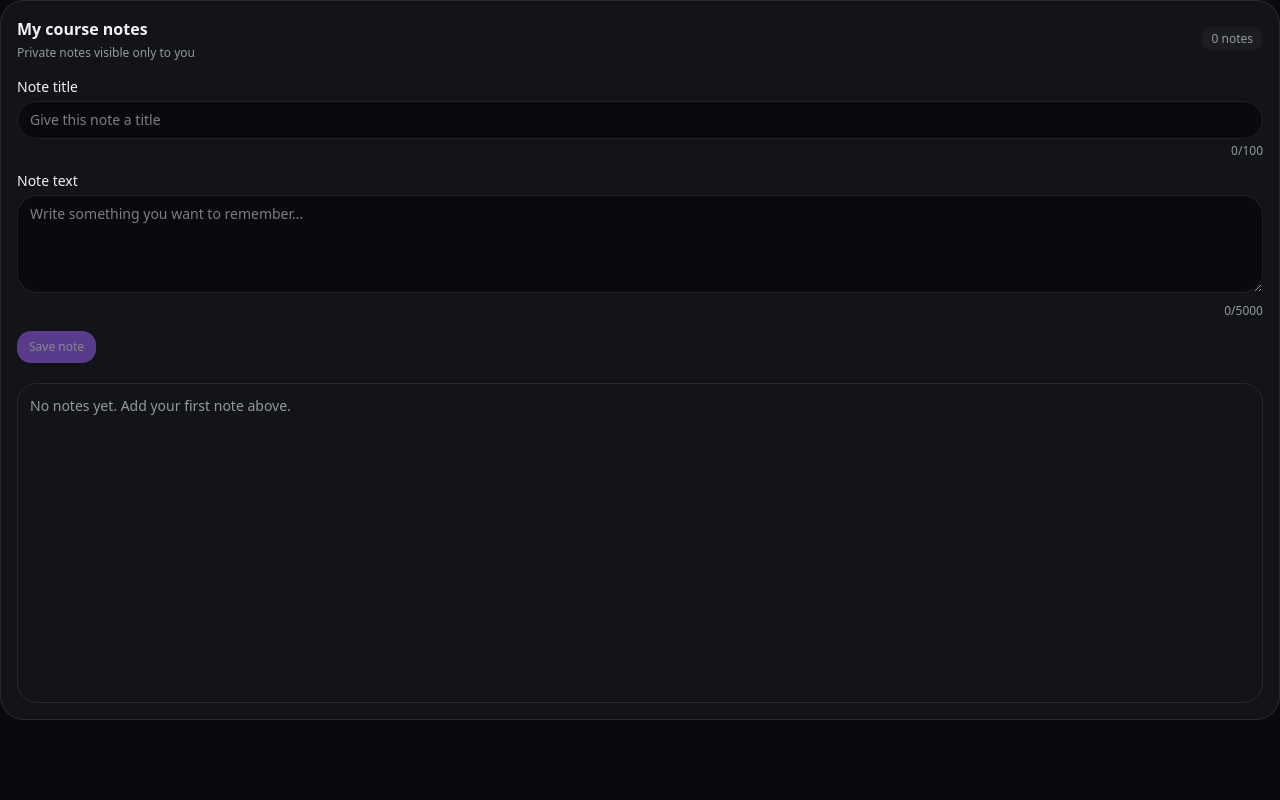
Scenario: LearningNotesPanel › keeps the note draft when saving fails
This screenshot has width=1280, height=800.
Expected: the text "No notes yet. Add your first note above." is shown, [30,396,291,415]
Step 1. Type "Keep this draft" into the field labelled "Note title" → (640, 120), box [17,101,1263,139]
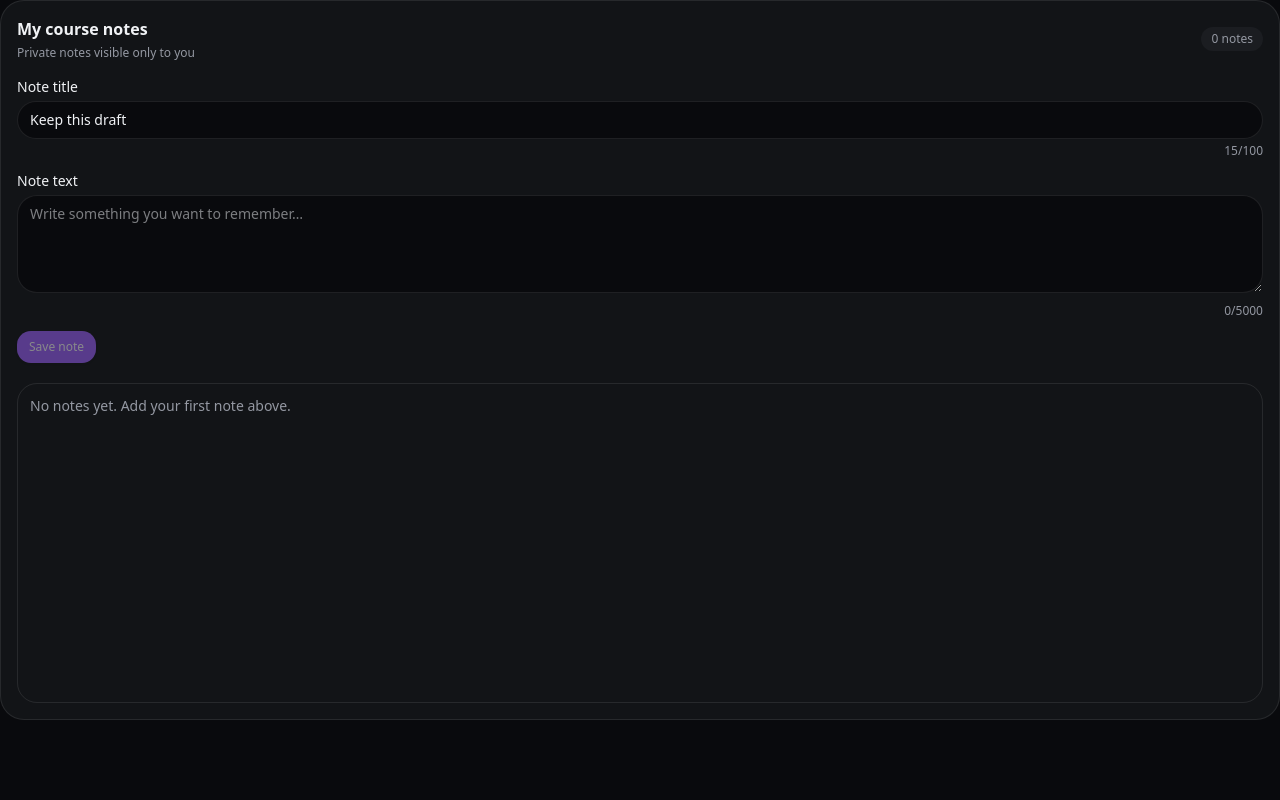
Step 2. Type "Do not lose this note." into the text box labelled "Note text" → (640, 244), box [17,195,1263,293]
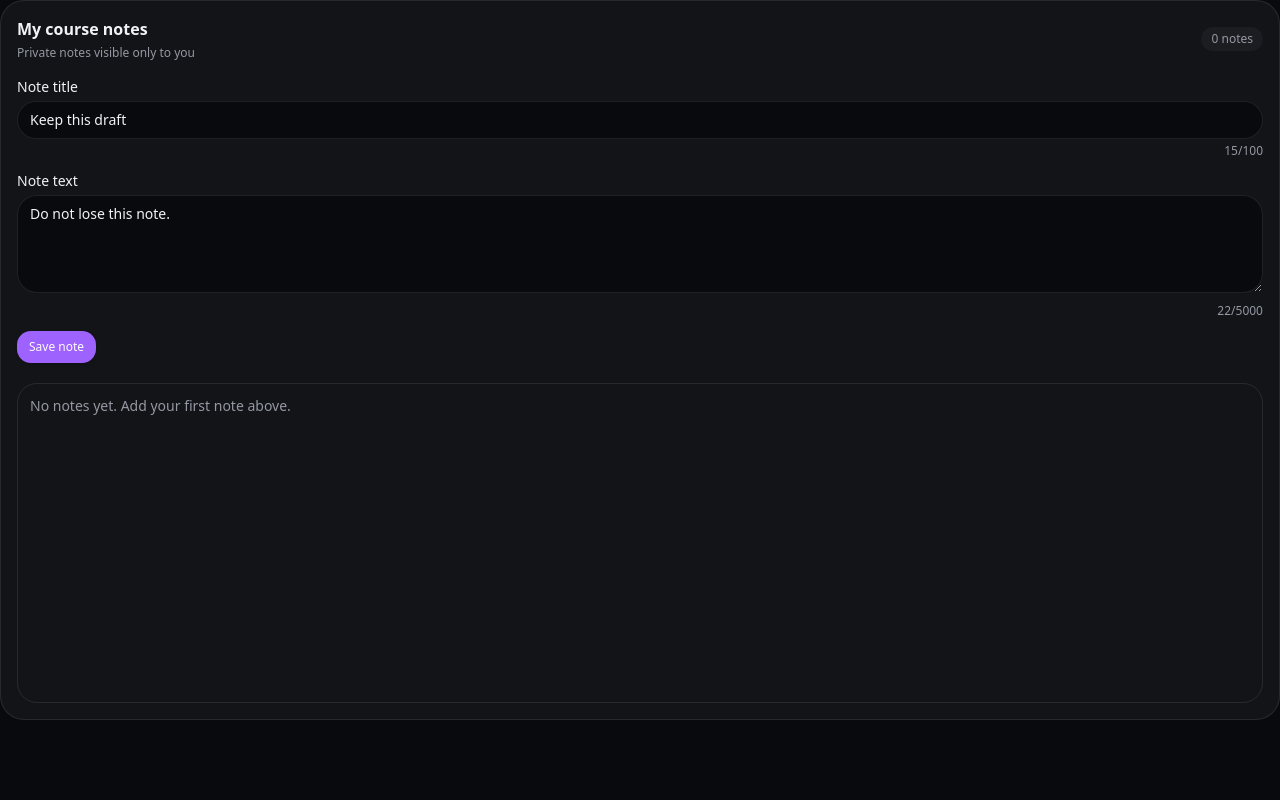
Step 3. Click the button "Save note" → (57, 347), box [17,331,96,363]
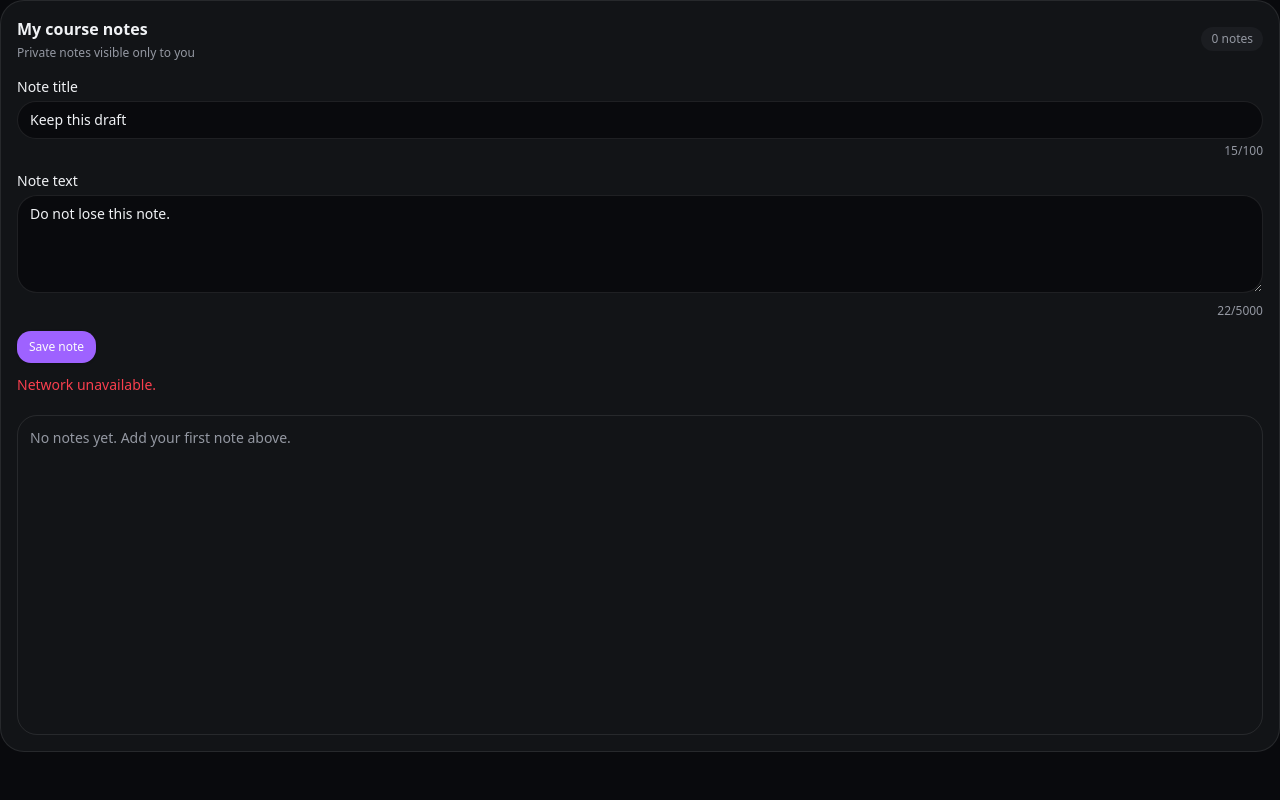
Result: the message reads "Network unavailable." at [17,375,156,394]
